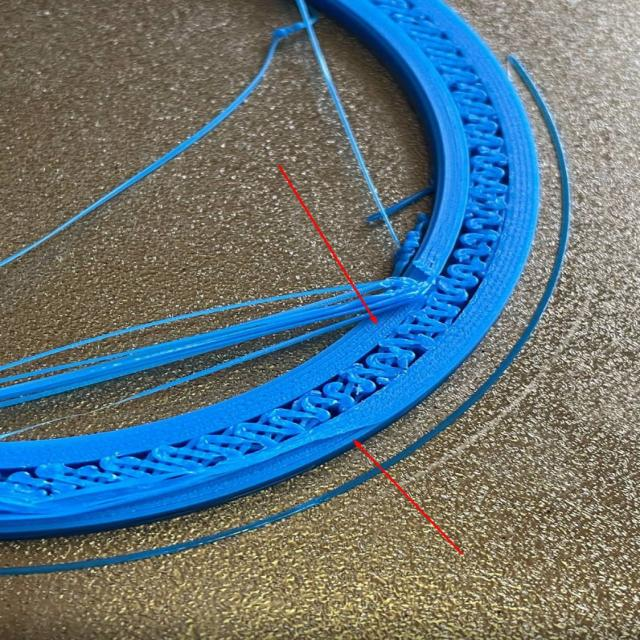Spaghetti: (0, 256, 426, 540), (46, 8, 359, 261)
